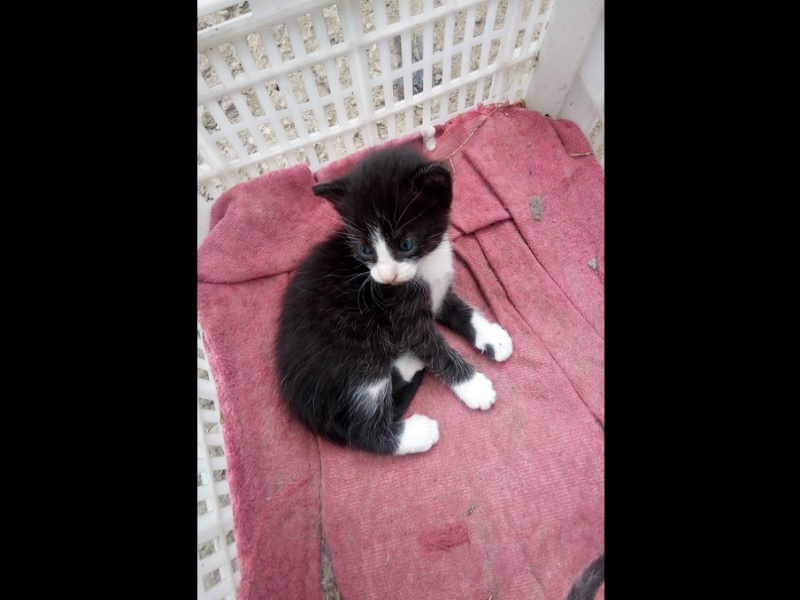cat: (268, 141, 518, 456)
